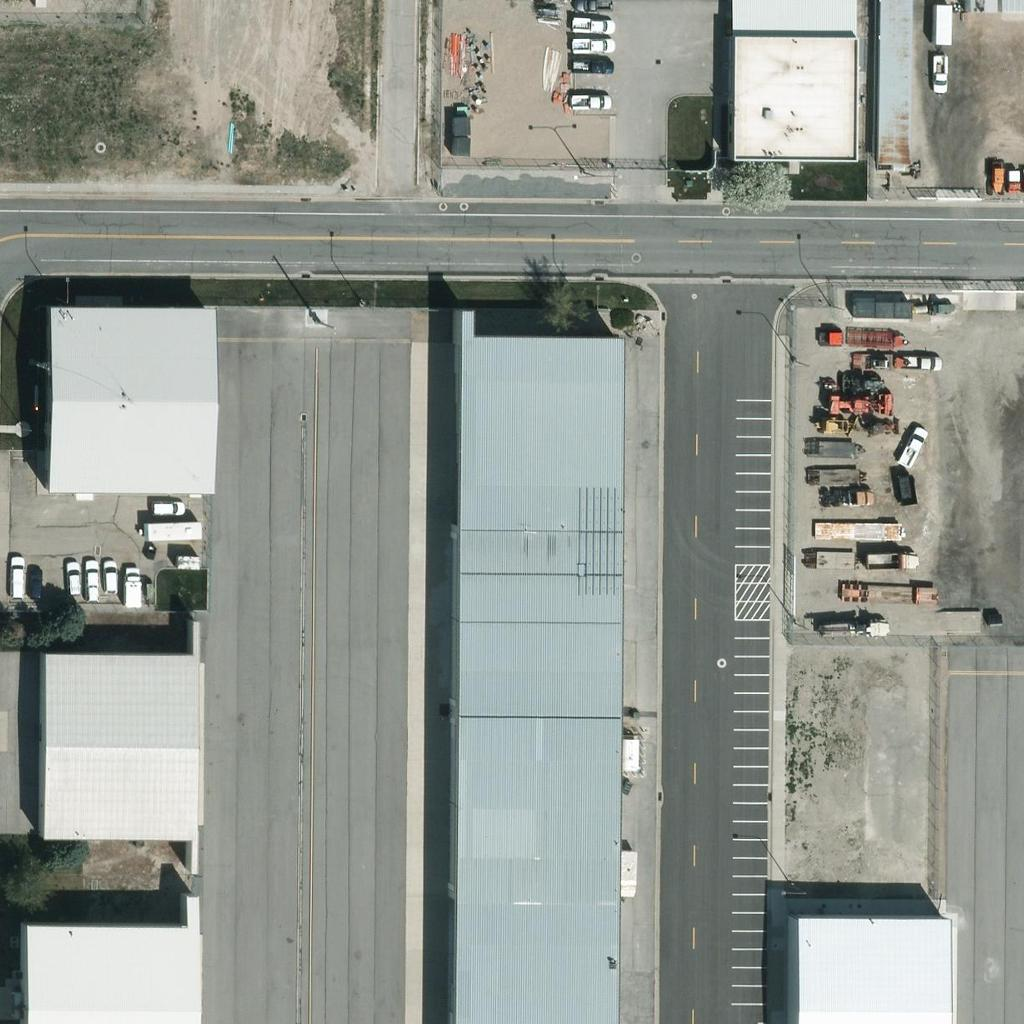car: (579, 8, 613, 42), (579, 28, 613, 62), (579, 47, 613, 81), (923, 59, 957, 93), (578, 86, 612, 120), (908, 345, 942, 379), (898, 426, 932, 460), (151, 490, 185, 524), (74, 558, 108, 592), (94, 559, 128, 593), (57, 560, 91, 594), (18, 563, 52, 597), (0, 554, 33, 588), (572, 0, 606, 20)
